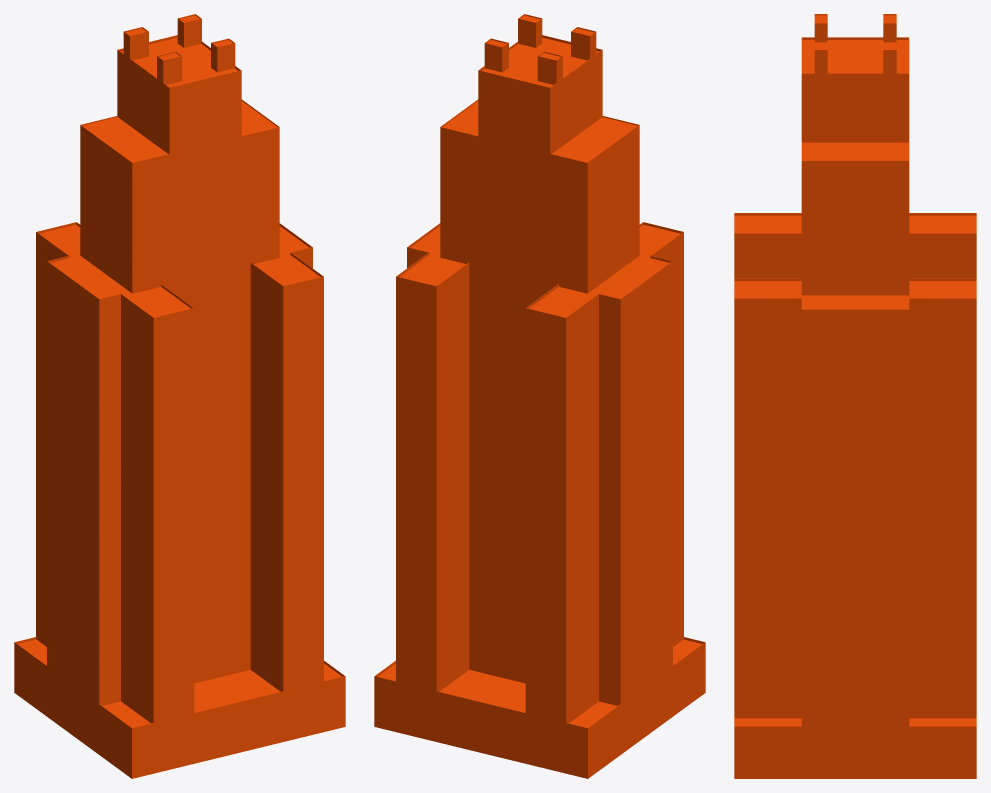
File: Building_05_1.FBX
The picture shows the model from 3 angles, left to right: view 1: azimuth 30°, elevation 25°; view 2: azimuth 150°, elevation 25°; view 3: azimuth 270°, elevation 25°; orthographic projection. The views are drawn at different scales.
Visible parts, largest first — view 1: Building_05_1; view 2: Building_05_1; view 3: Building_05_1.
Boxes of the visible parts, x1,y1,x2,y2 form: Building_05_1: (14,14,345,778); Building_05_1: (374,14,705,778); Building_05_1: (734,14,976,778).
Size of the model in its own units: 104638 by 314981 by 99860.
